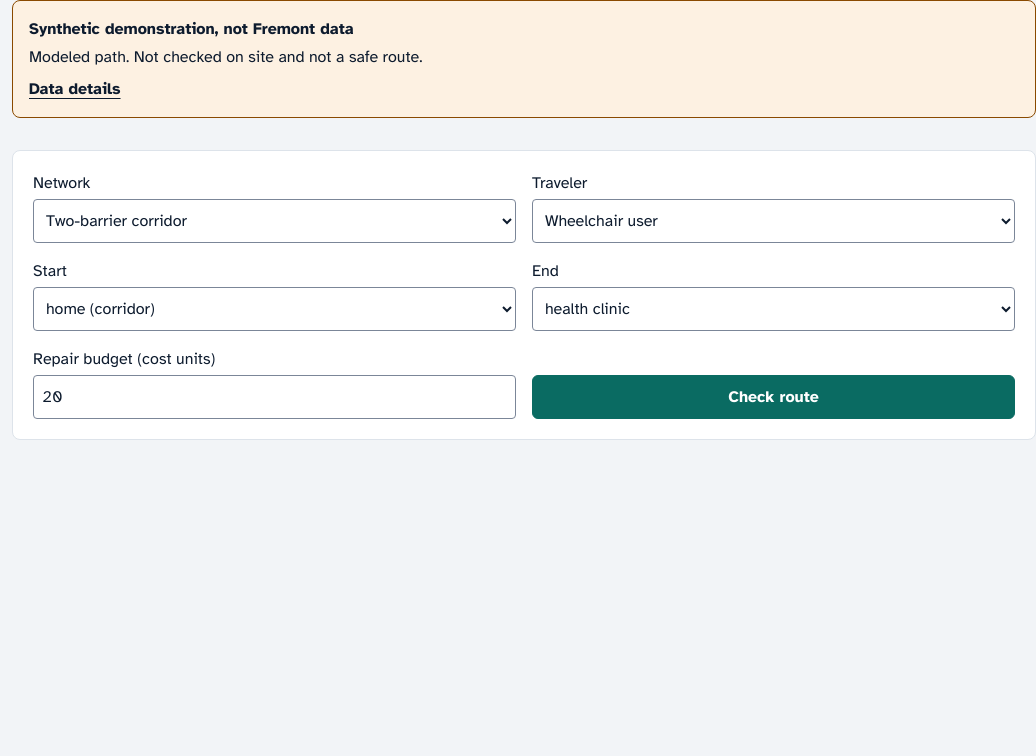
Test: shows modeled repair impacts and which repairs contribute
This screenshot has width=1036, height=756.
expect the dropdown labelled "Start" is shown: met, box [33,287,516,331]
Click the button "Check route" at (774, 397), box [532,375,1015,419]
(page scrolled)
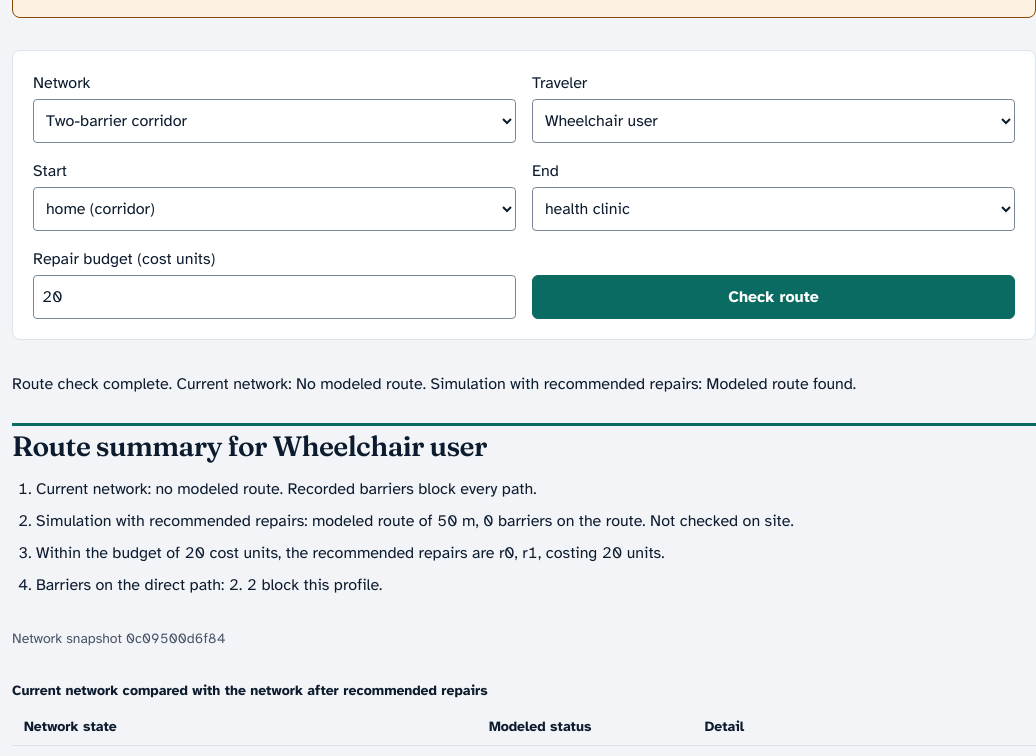
expect the heading "Route summary for Wheelchair user" is shown: met, box [12,429,487,463]
expect the text "Simulation with recommended repairs" is shown: met, box [423,374,706,394]
